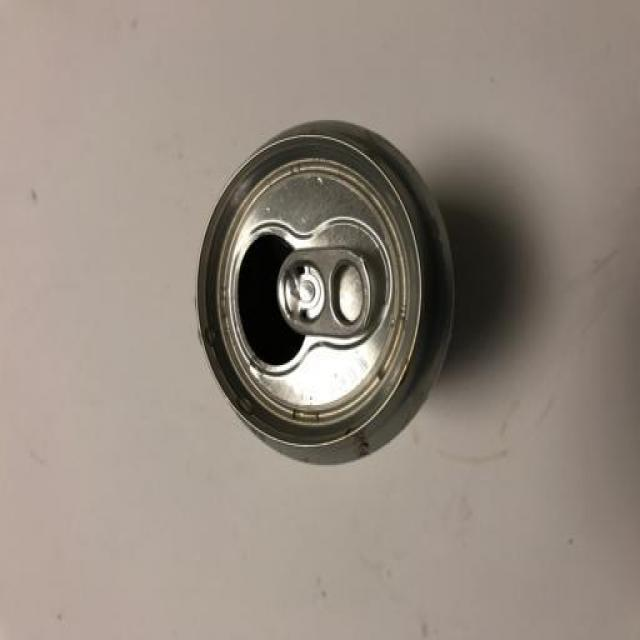metel: (208, 138, 439, 453)
